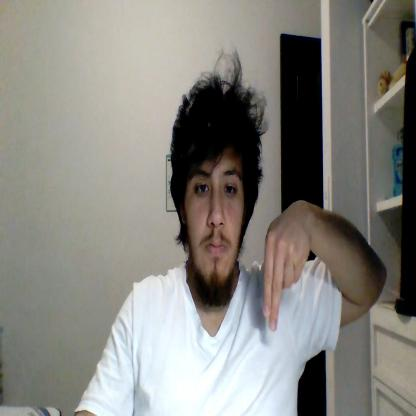N: (263, 200, 310, 331)
